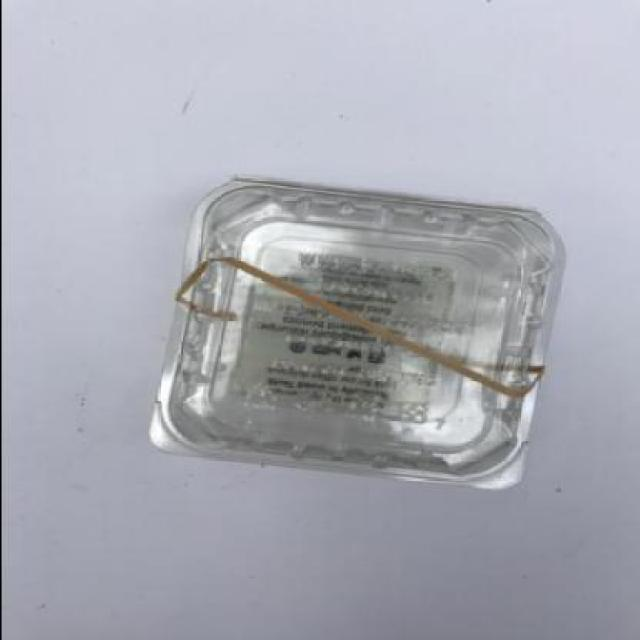PLASTIC: (154, 174, 566, 488)
